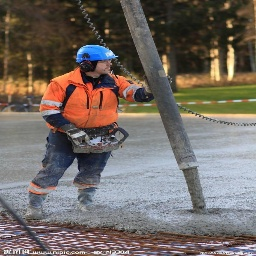helmet: (71, 44, 117, 64)
person: (22, 43, 160, 220)
vest: (38, 73, 139, 145)
